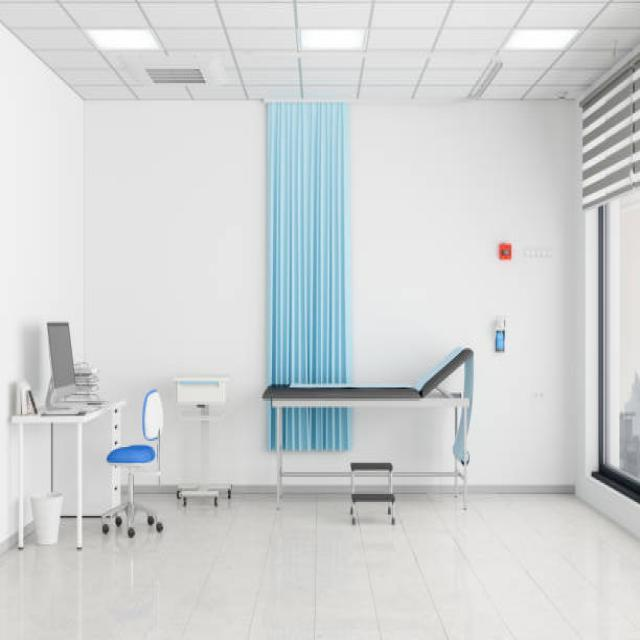Monitor: (37, 315, 84, 426)
bed: (261, 343, 474, 513)
bin: (25, 483, 64, 550)
chair: (103, 381, 169, 546)
stool: (327, 437, 410, 534)
tools_table: (17, 387, 136, 571)
